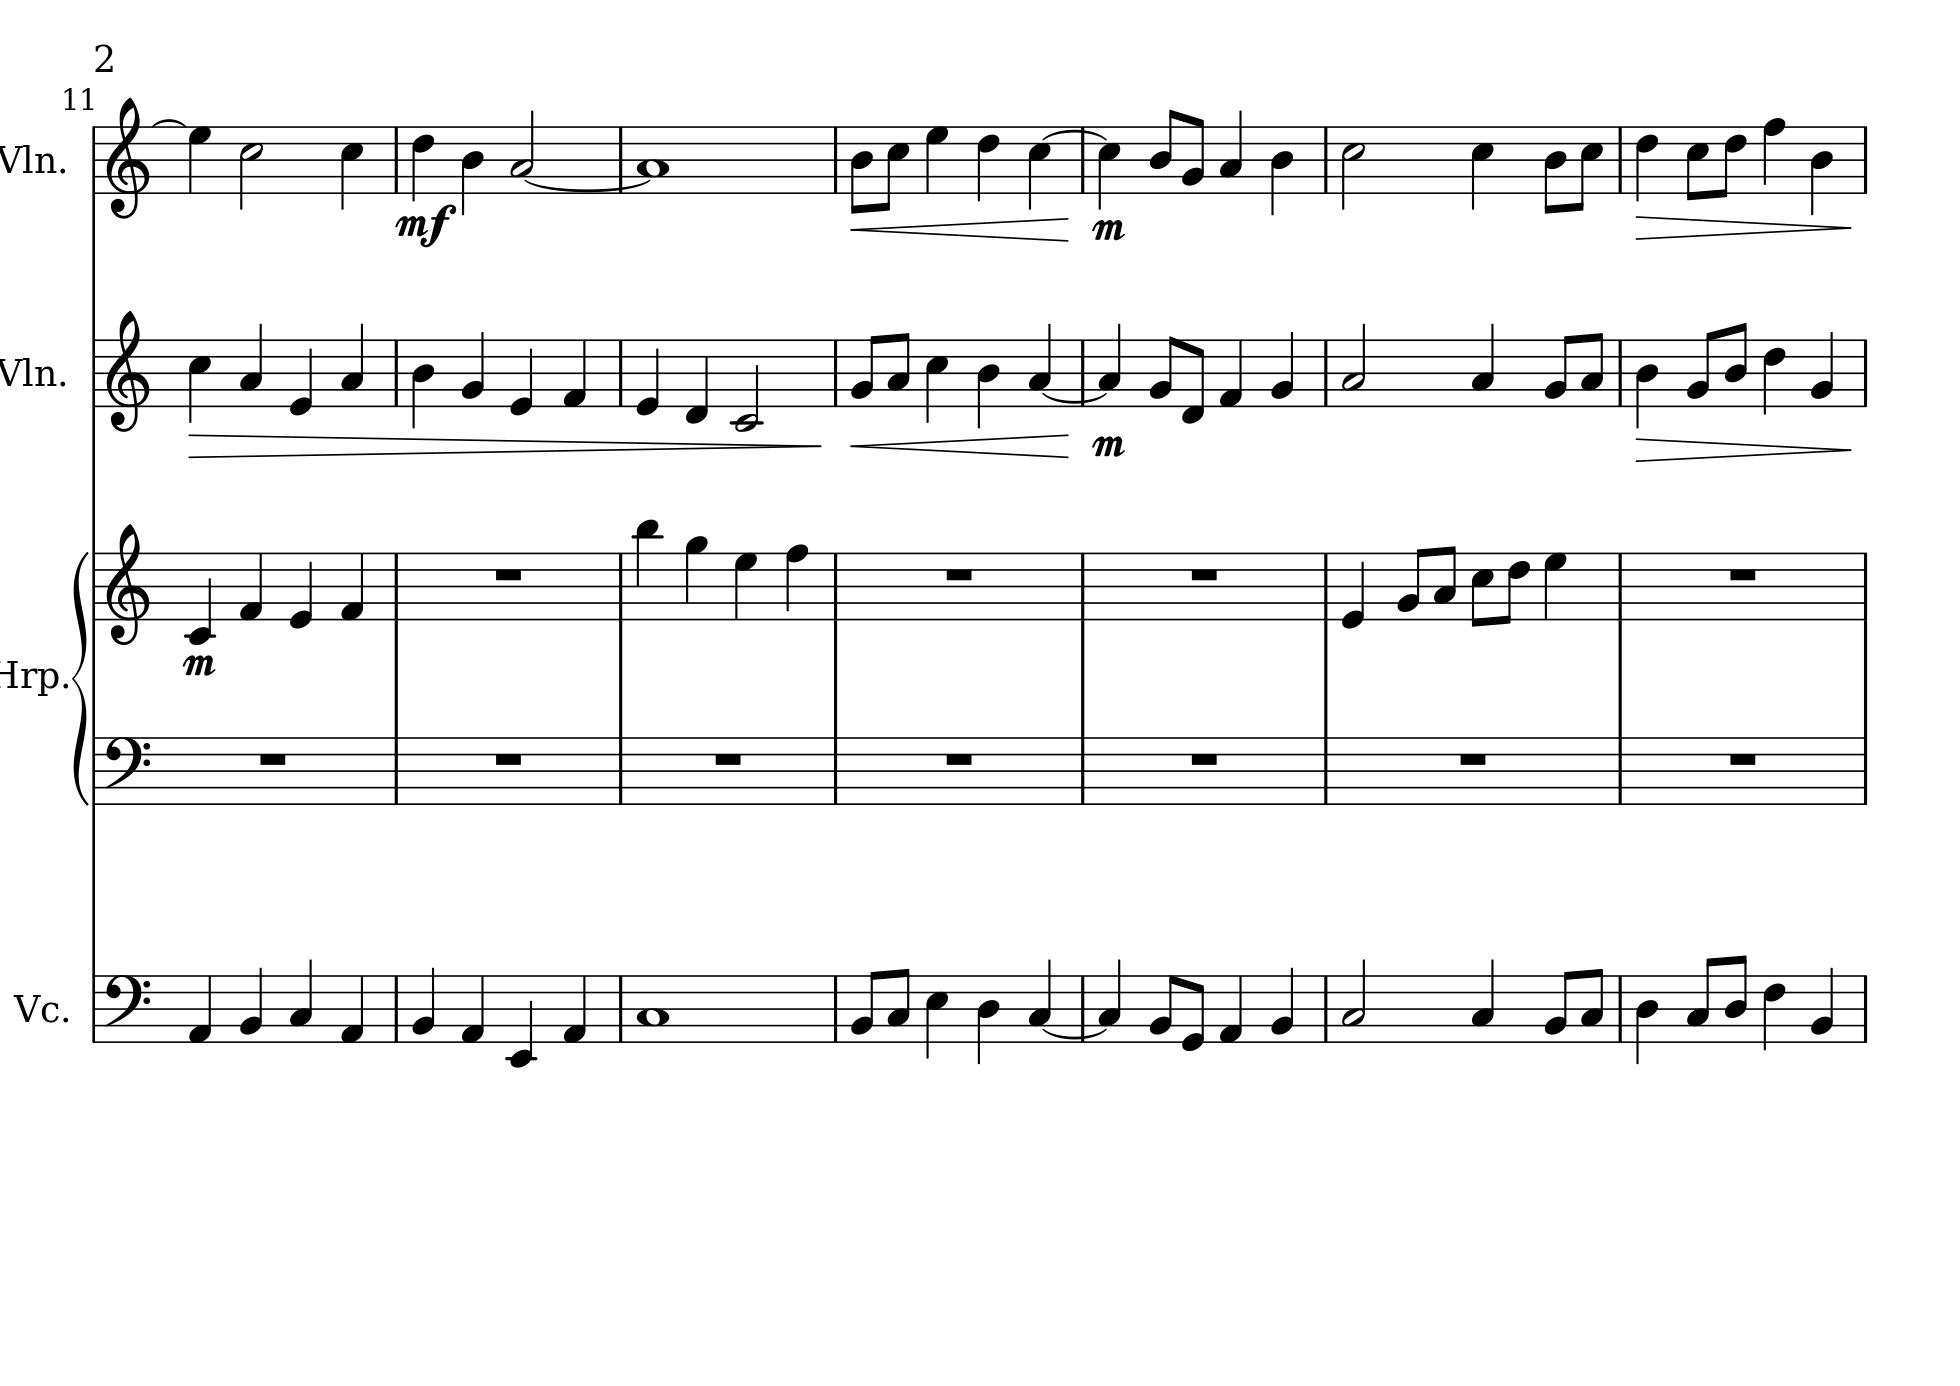1: (61, 85, 76, 112), (79, 85, 94, 112)
1_3: (634, 124, 669, 195), (636, 972, 669, 1042)
2: (91, 42, 115, 72)
2_-2: (730, 337, 762, 432)
2_3: (507, 106, 535, 193), (1339, 322, 1368, 406), (1341, 957, 1368, 1042)
2_5: (238, 124, 264, 211), (1339, 124, 1365, 210)
4_-1: (682, 337, 709, 424)
4_-2: (505, 972, 535, 1069), (184, 550, 214, 646)
4_0: (633, 336, 661, 417), (286, 337, 313, 418), (508, 337, 535, 418), (286, 550, 313, 631), (1341, 550, 1368, 628)
4_1: (559, 336, 588, 408), (235, 549, 264, 621), (337, 549, 366, 621), (186, 972, 214, 1044), (339, 973, 366, 1044), (459, 973, 486, 1044), (561, 972, 588, 1042)
4_11: (633, 517, 663, 619)
4_2: (459, 328, 486, 408), (1809, 964, 1836, 1044), (1269, 330, 1296, 408), (1809, 330, 1836, 408), (409, 964, 436, 1042), (1269, 964, 1296, 1042), (238, 964, 264, 1044)
4_3: (237, 319, 264, 406), (1470, 322, 1497, 408), (1470, 958, 1497, 1042), (288, 955, 313, 1042), (339, 321, 364, 406), (1027, 321, 1053, 406), (1027, 957, 1053, 1042), (1218, 109, 1243, 193), (1098, 957, 1122, 1042), (1098, 322, 1122, 406)
4_4: (409, 337, 436, 430), (975, 337, 1002, 429), (976, 973, 1002, 1065), (1635, 337, 1659, 429), (1635, 973, 1659, 1065), (460, 124, 484, 214), (1269, 124, 1293, 214), (1809, 126, 1833, 216)
4_5: (337, 123, 364, 211), (924, 972, 949, 1060), (1027, 124, 1053, 211), (1096, 124, 1122, 211), (1470, 124, 1495, 211), (924, 337, 949, 424), (187, 337, 211, 424)
4_6: (1761, 337, 1786, 417), (1761, 972, 1786, 1051), (409, 124, 433, 204), (975, 124, 999, 204), (1635, 124, 1659, 202)
4_7: (732, 550, 759, 622), (922, 124, 949, 195), (1542, 550, 1569, 621), (186, 124, 211, 195)
4_8: (784, 541, 810, 622), (1761, 115, 1785, 195)
4_9: (682, 534, 709, 622)
8_-1: (1179, 337, 1206, 427)
8_0: (1182, 973, 1206, 1054)
8_1: (1216, 336, 1245, 409), (1218, 973, 1245, 1044)
8_2: (1542, 333, 1573, 408), (1395, 546, 1426, 621), (849, 967, 880, 1042), (1542, 967, 1573, 1042), (1686, 328, 1716, 406), (849, 333, 880, 406), (1147, 334, 1179, 406), (1149, 972, 1179, 1042), (1180, 115, 1204, 195)
8_3: (1686, 955, 1717, 1044), (1579, 330, 1605, 409), (1432, 543, 1458, 622), (1579, 966, 1605, 1044), (886, 330, 910, 408), (886, 966, 910, 1042)
8_4: (1149, 106, 1180, 193), (847, 124, 874, 216), (1542, 124, 1567, 216), (1723, 952, 1749, 1042), (1723, 321, 1747, 406)
8_5: (1572, 124, 1603, 213), (880, 124, 910, 214), (1686, 124, 1710, 202), (1470, 550, 1494, 628)
8_6: (1500, 550, 1531, 625), (1717, 124, 1747, 199)
Brace: (70, 547, 88, 804)
Crescendo_hairpin: (850, 216, 1071, 244), (850, 433, 1071, 459)
Diminuendo_hairpin: (189, 430, 823, 454)
Fclef: (103, 972, 151, 1042), (102, 733, 151, 799)
Gclef: (103, 309, 151, 436), (103, 520, 151, 646), (103, 97, 150, 220)
Hrp: (1, 657, 60, 697)
Rests1: (253, 748, 289, 768), (492, 565, 526, 583), (942, 565, 976, 583), (942, 748, 976, 766), (1456, 748, 1491, 766), (1188, 565, 1221, 583), (492, 748, 525, 766), (712, 748, 745, 766), (1188, 748, 1221, 766), (1726, 748, 1759, 766), (1726, 565, 1759, 582)
Single_barline: (826, 126, 844, 193), (826, 552, 844, 619), (612, 126, 630, 192), (1074, 975, 1092, 1039), (1857, 337, 1873, 406), (1857, 126, 1873, 193), (85, 339, 102, 406), (612, 552, 628, 619), (1318, 552, 1335, 619), (1612, 552, 1629, 619), (1857, 552, 1873, 619), (1857, 736, 1873, 804), (612, 736, 628, 804), (1075, 736, 1092, 804), (388, 126, 405, 192), (1318, 126, 1335, 192), (1612, 126, 1629, 192), (1075, 553, 1092, 619), (828, 736, 844, 802), (1612, 973, 1629, 1039), (1075, 339, 1092, 403), (1614, 337, 1629, 406), (388, 552, 403, 621), (1318, 736, 1333, 805), (1858, 973, 1873, 1042), (613, 339, 628, 406), (388, 736, 403, 804), (1612, 736, 1627, 804), (388, 339, 403, 405), (1320, 339, 1335, 405), (388, 975, 403, 1041), (613, 975, 628, 1041), (828, 975, 843, 1041), (1320, 975, 1335, 1041), (1077, 127, 1092, 192), (87, 124, 100, 193), (829, 337, 843, 406), (87, 975, 100, 1042), (88, 550, 100, 619), (88, 736, 100, 805)
Slur: (523, 178, 646, 190), (1041, 127, 1108, 141), (1041, 391, 1110, 403), (1042, 1027, 1110, 1038), (150, 117, 187, 127)
Vc: (7, 987, 64, 1026)
Vln: (1, 349, 57, 393), (1, 139, 58, 178)
m: (1089, 430, 1128, 462), (1089, 214, 1128, 244), (178, 649, 217, 679)
mf: (394, 202, 459, 250)
